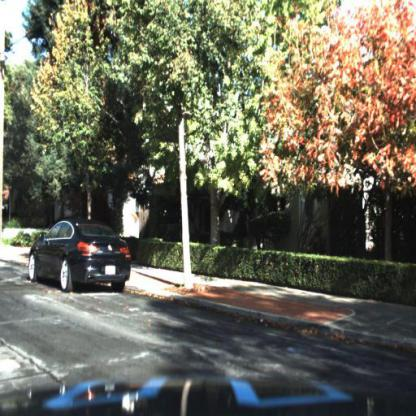car: (26, 215, 131, 302), (27, 218, 133, 297)
